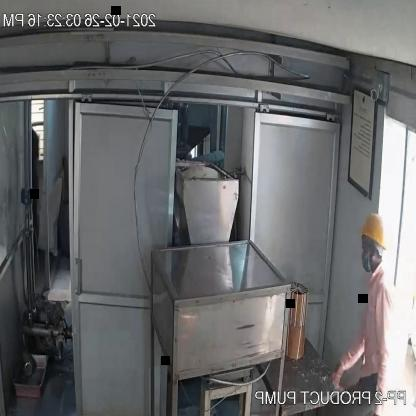helmet: (358, 210, 388, 251)
